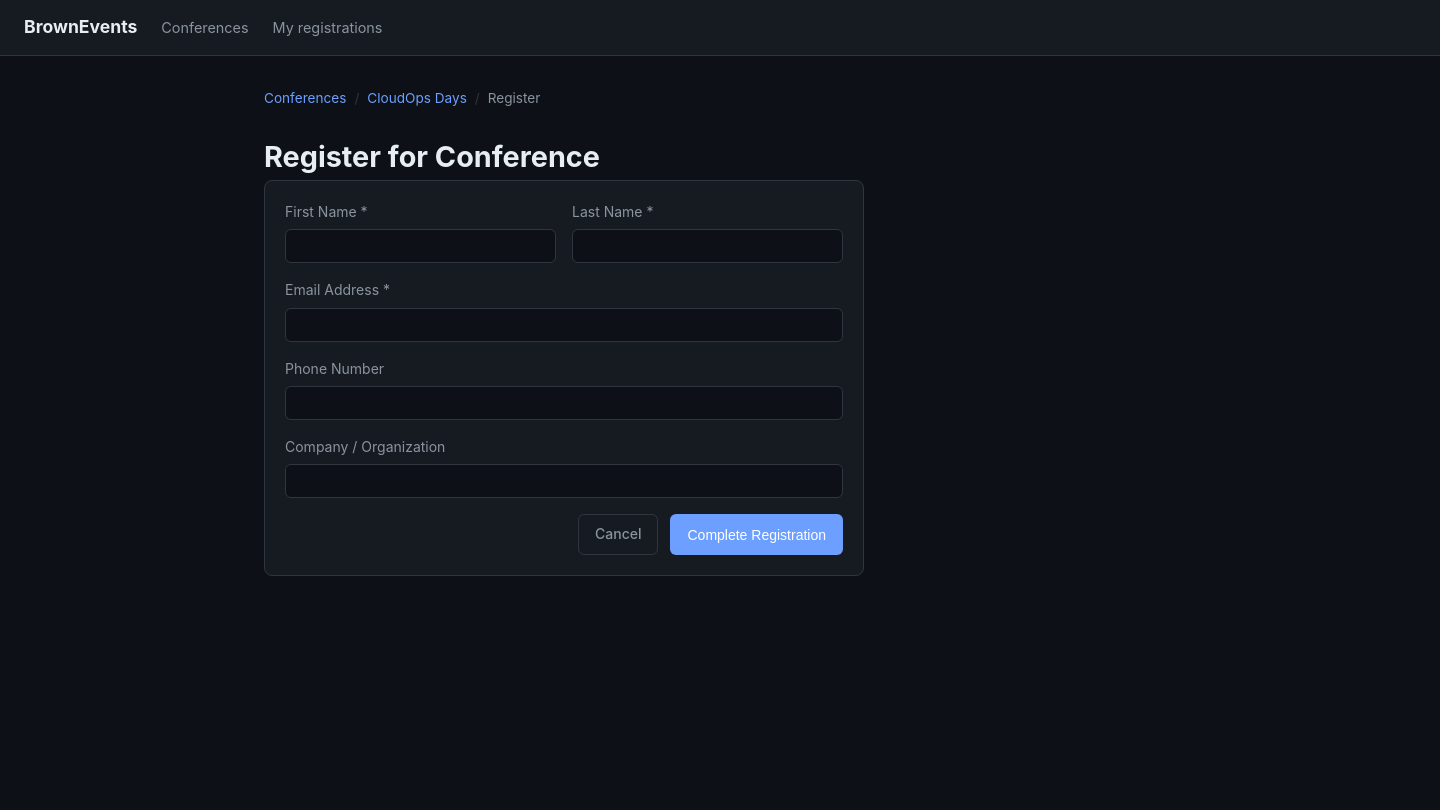
Test: registration page success text (BEVN-203 spec 6.4) › points to My registrations after registering instead of promising an email
Expected: the button "Complete Registration" is shown, [670, 514, 843, 555]
Type "Ann" into the field below "First Name *" at (420, 246), box [285, 229, 556, 263]
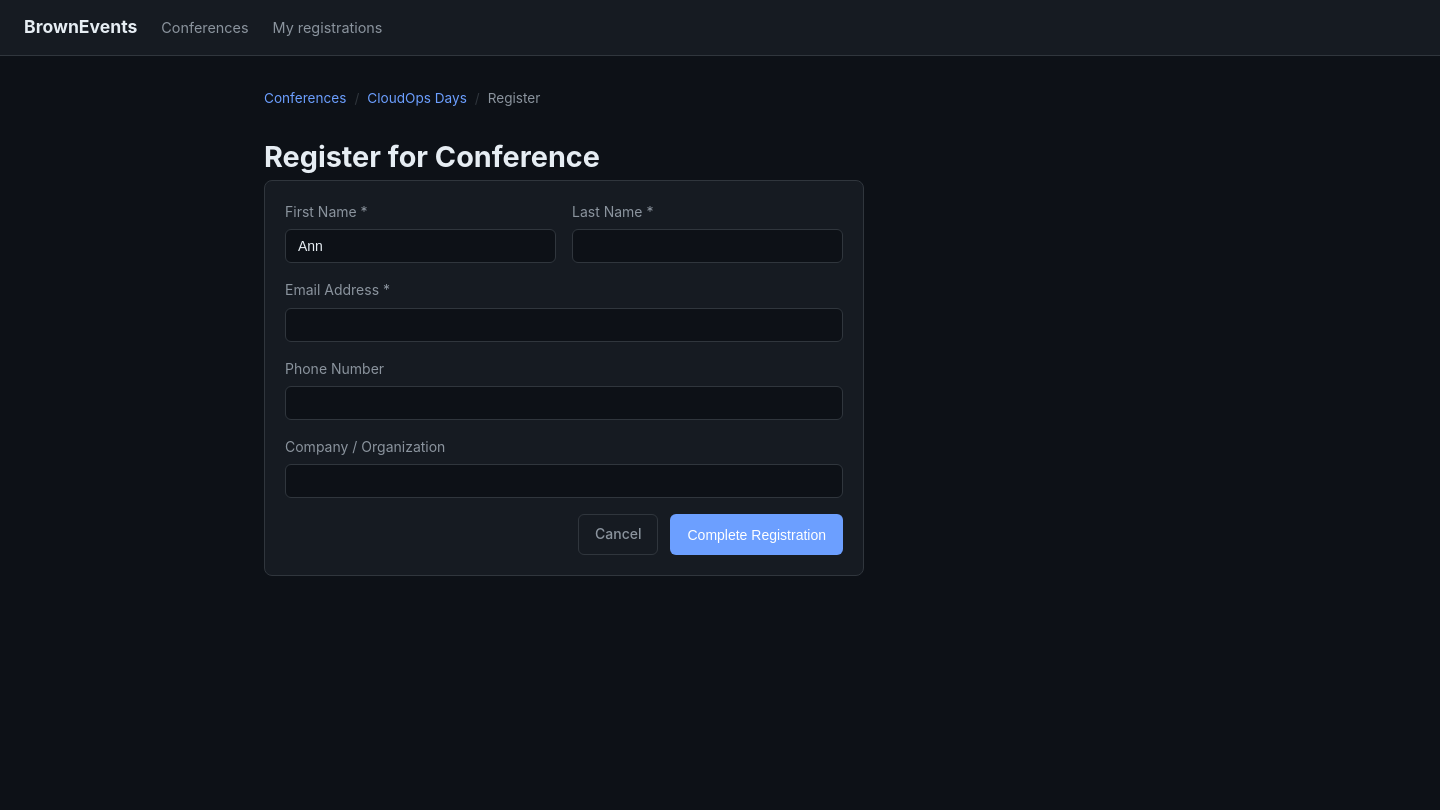
Type "Lee" into the field below "Last Name *" at (708, 246), box [572, 229, 843, 263]
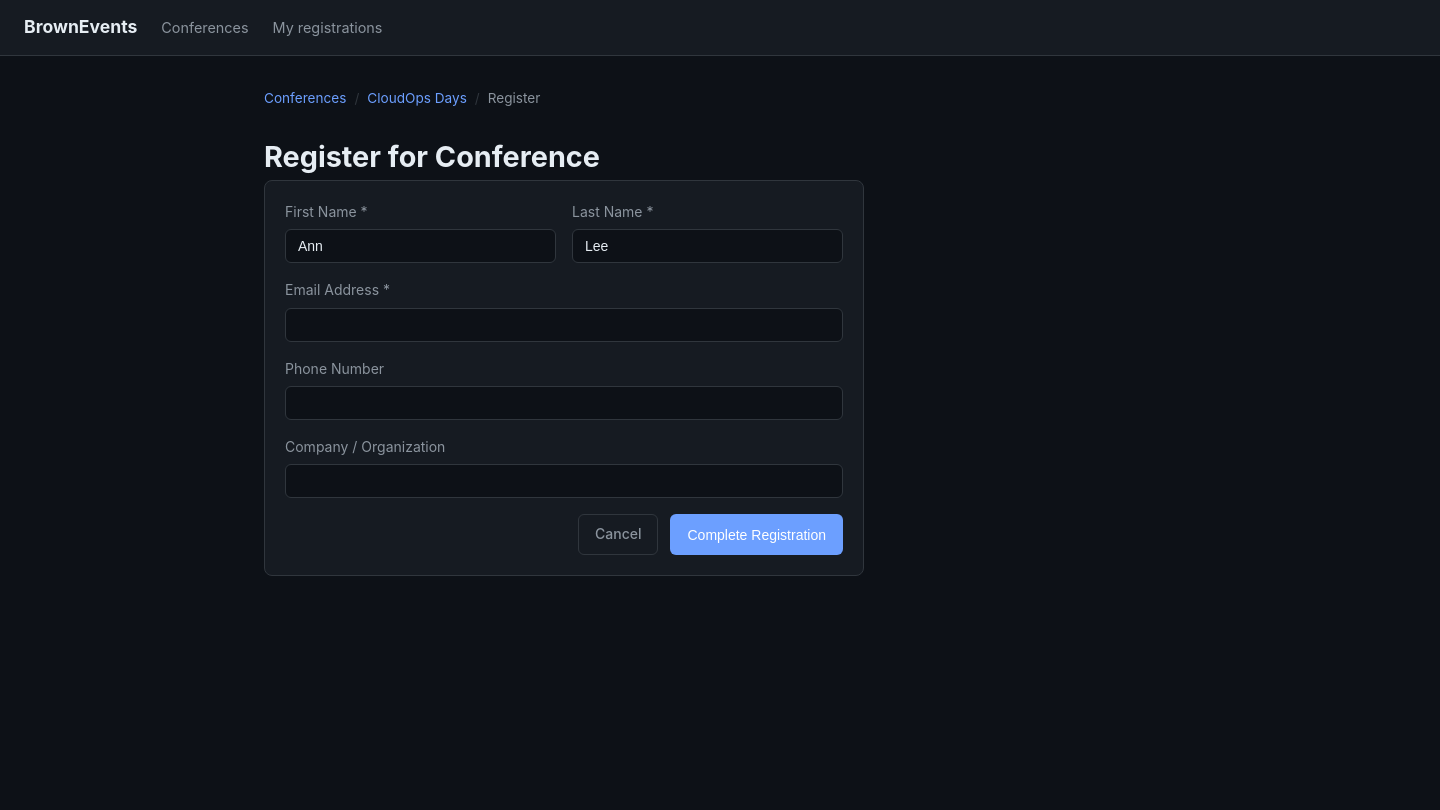
Type "ann@x.example" into the field below "Email Address *" at (564, 325), box [285, 308, 843, 342]
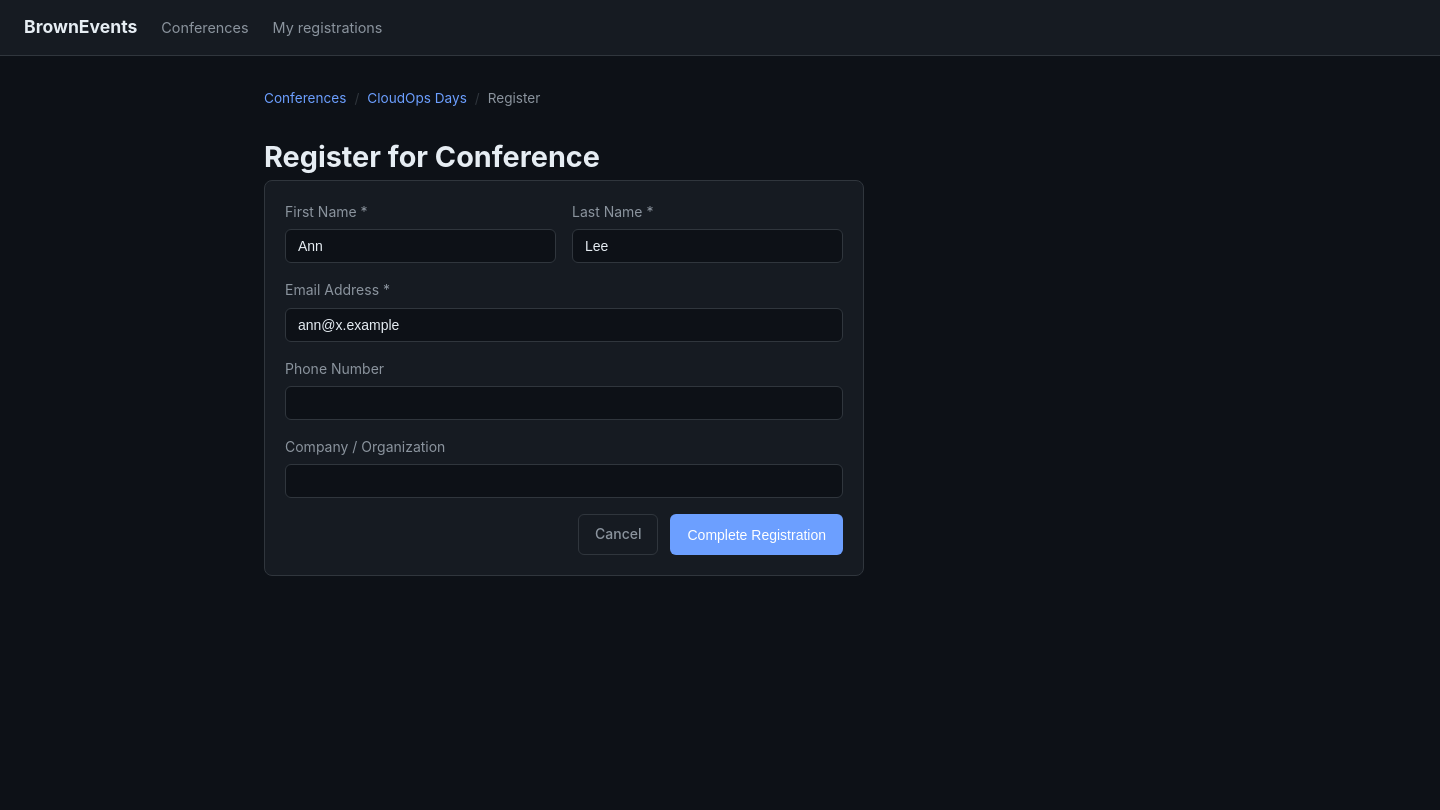
Click the button "Complete Registration" at (757, 535), box [670, 514, 843, 555]
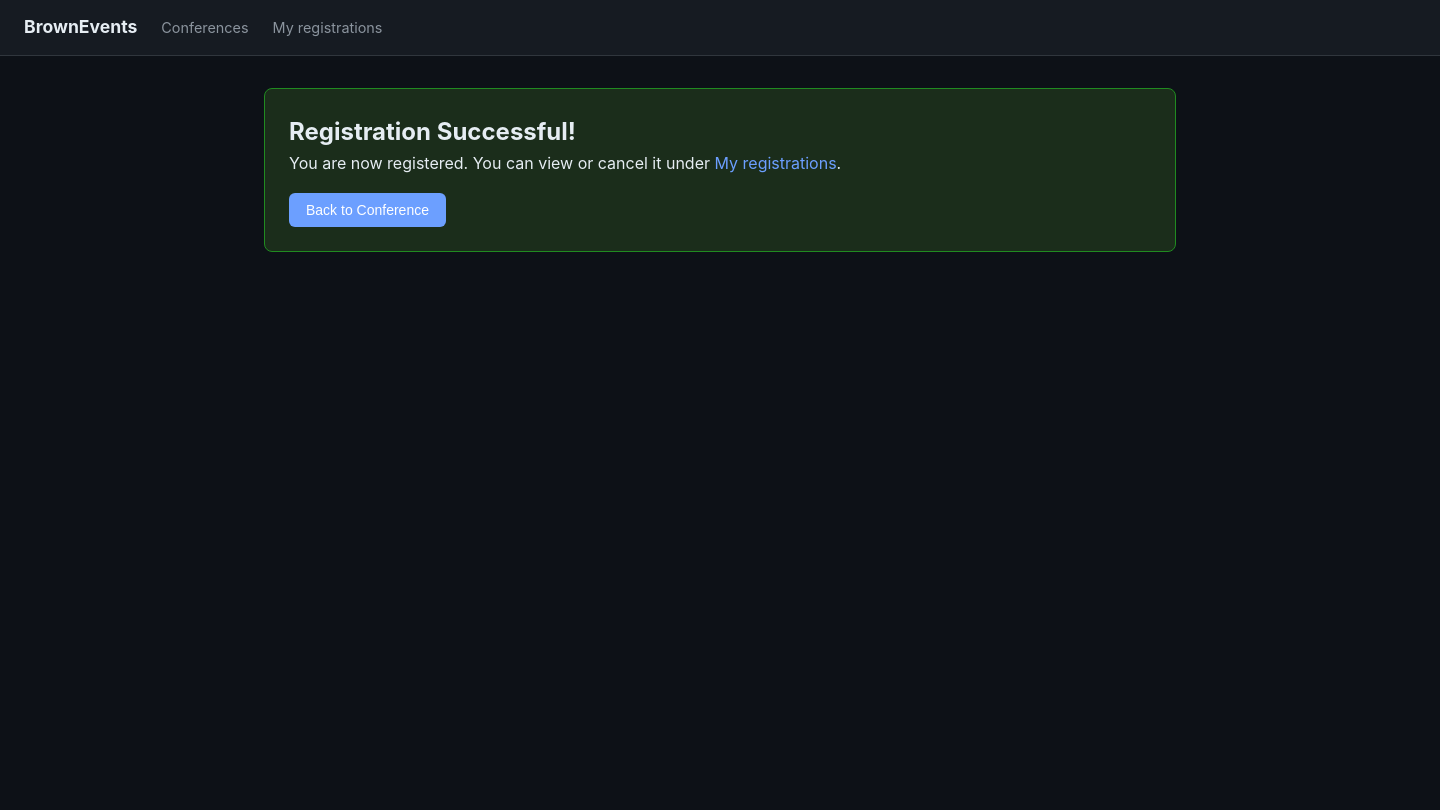
Expected: the heading "Registration Successful!" is shown, [289, 117, 576, 146]
Expected: the field "confirmation email" is gone
